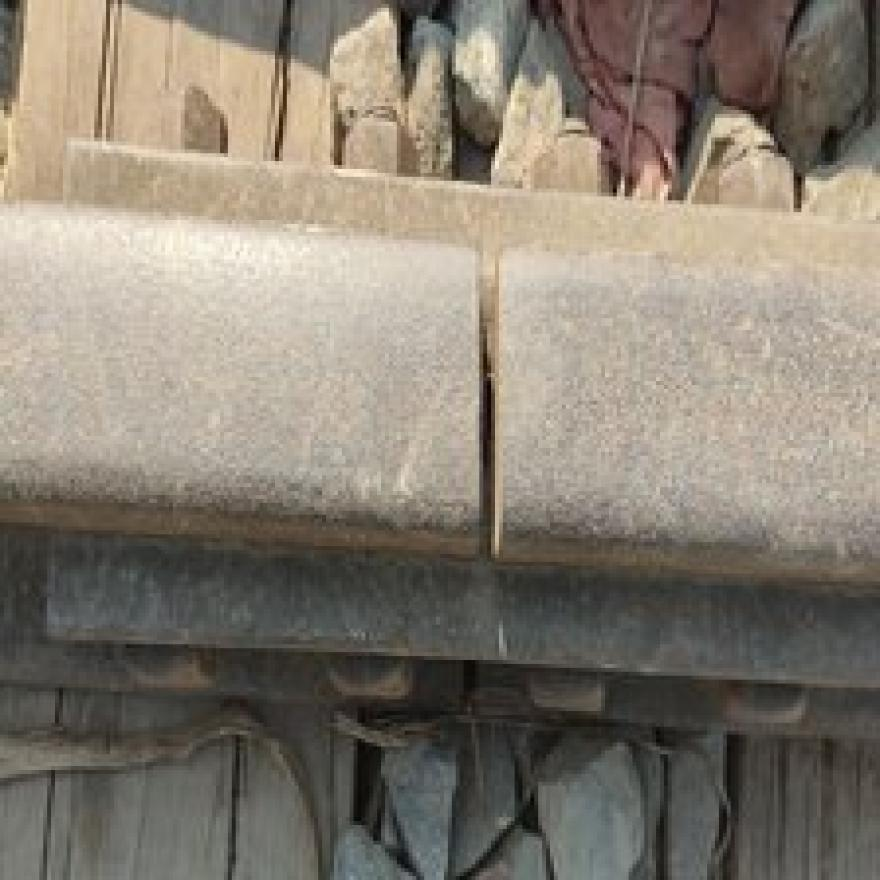railway-gap: (308, 226, 668, 589)
